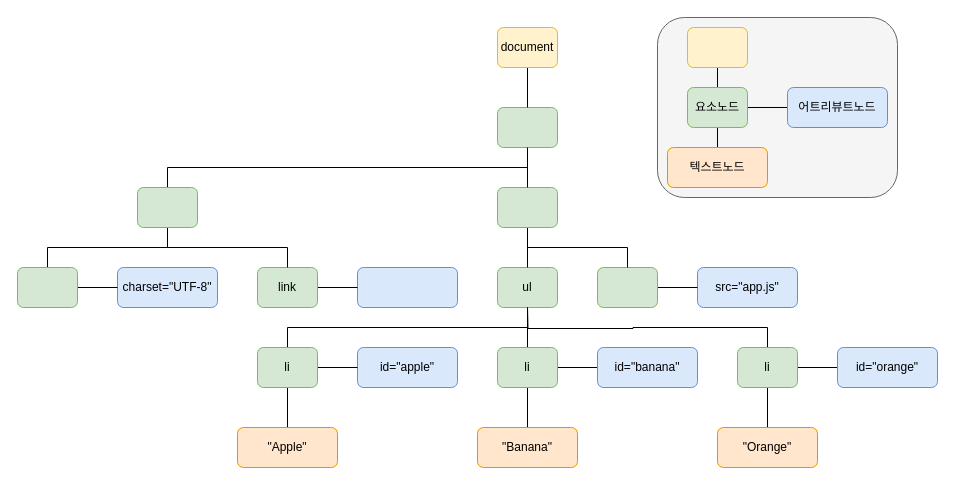
The diagram is 955 pixels wide and 485 high, and some of its shapes have lost their labels. Here are the shapes that lost their labels. From the top down, the box of each, then its label:
(686, 26, 748, 68): 문서노드
(496, 106, 558, 148): html
(136, 186, 198, 228): head
(496, 186, 558, 228): body
(16, 266, 78, 308): meta
(356, 266, 458, 308): rel="stylesheet" href="style.css"
(596, 266, 658, 308): script
